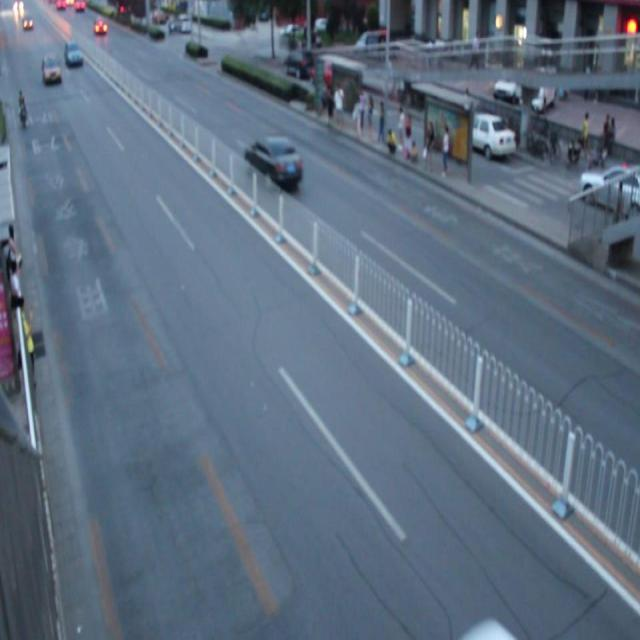car: (243, 133, 303, 188)
